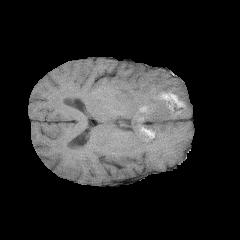glioma: (110, 70, 188, 143)
